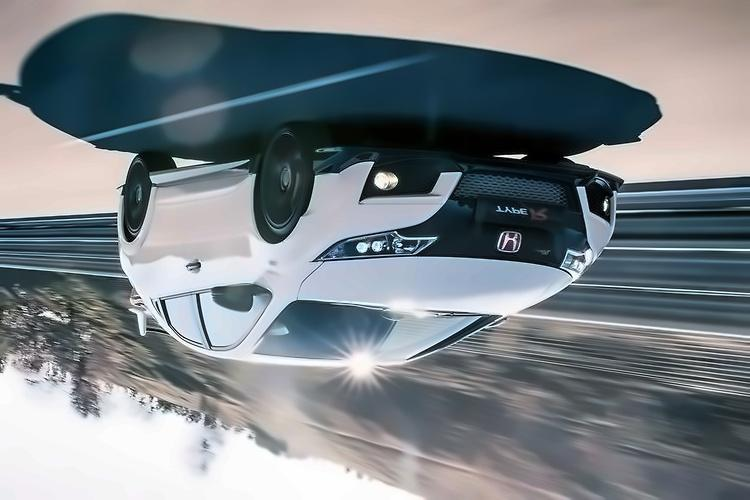Car hood: (296, 256, 577, 318)
Fender - -F-L-: (249, 161, 318, 306)
Fender - -R-L-: (125, 172, 156, 283)
Front bumper: (305, 141, 625, 244)
Headlight - -L-: (308, 225, 441, 265)
Headlight - -R-: (554, 239, 599, 287)
Passenger-s door - -F-L-: (187, 176, 250, 356)
Passenger-s door - -R-L-: (140, 176, 192, 352)
Rear bumper: (109, 182, 134, 228)
Side bumper - -L-: (141, 150, 268, 190)
Side mirror - -L-: (208, 281, 272, 316)
